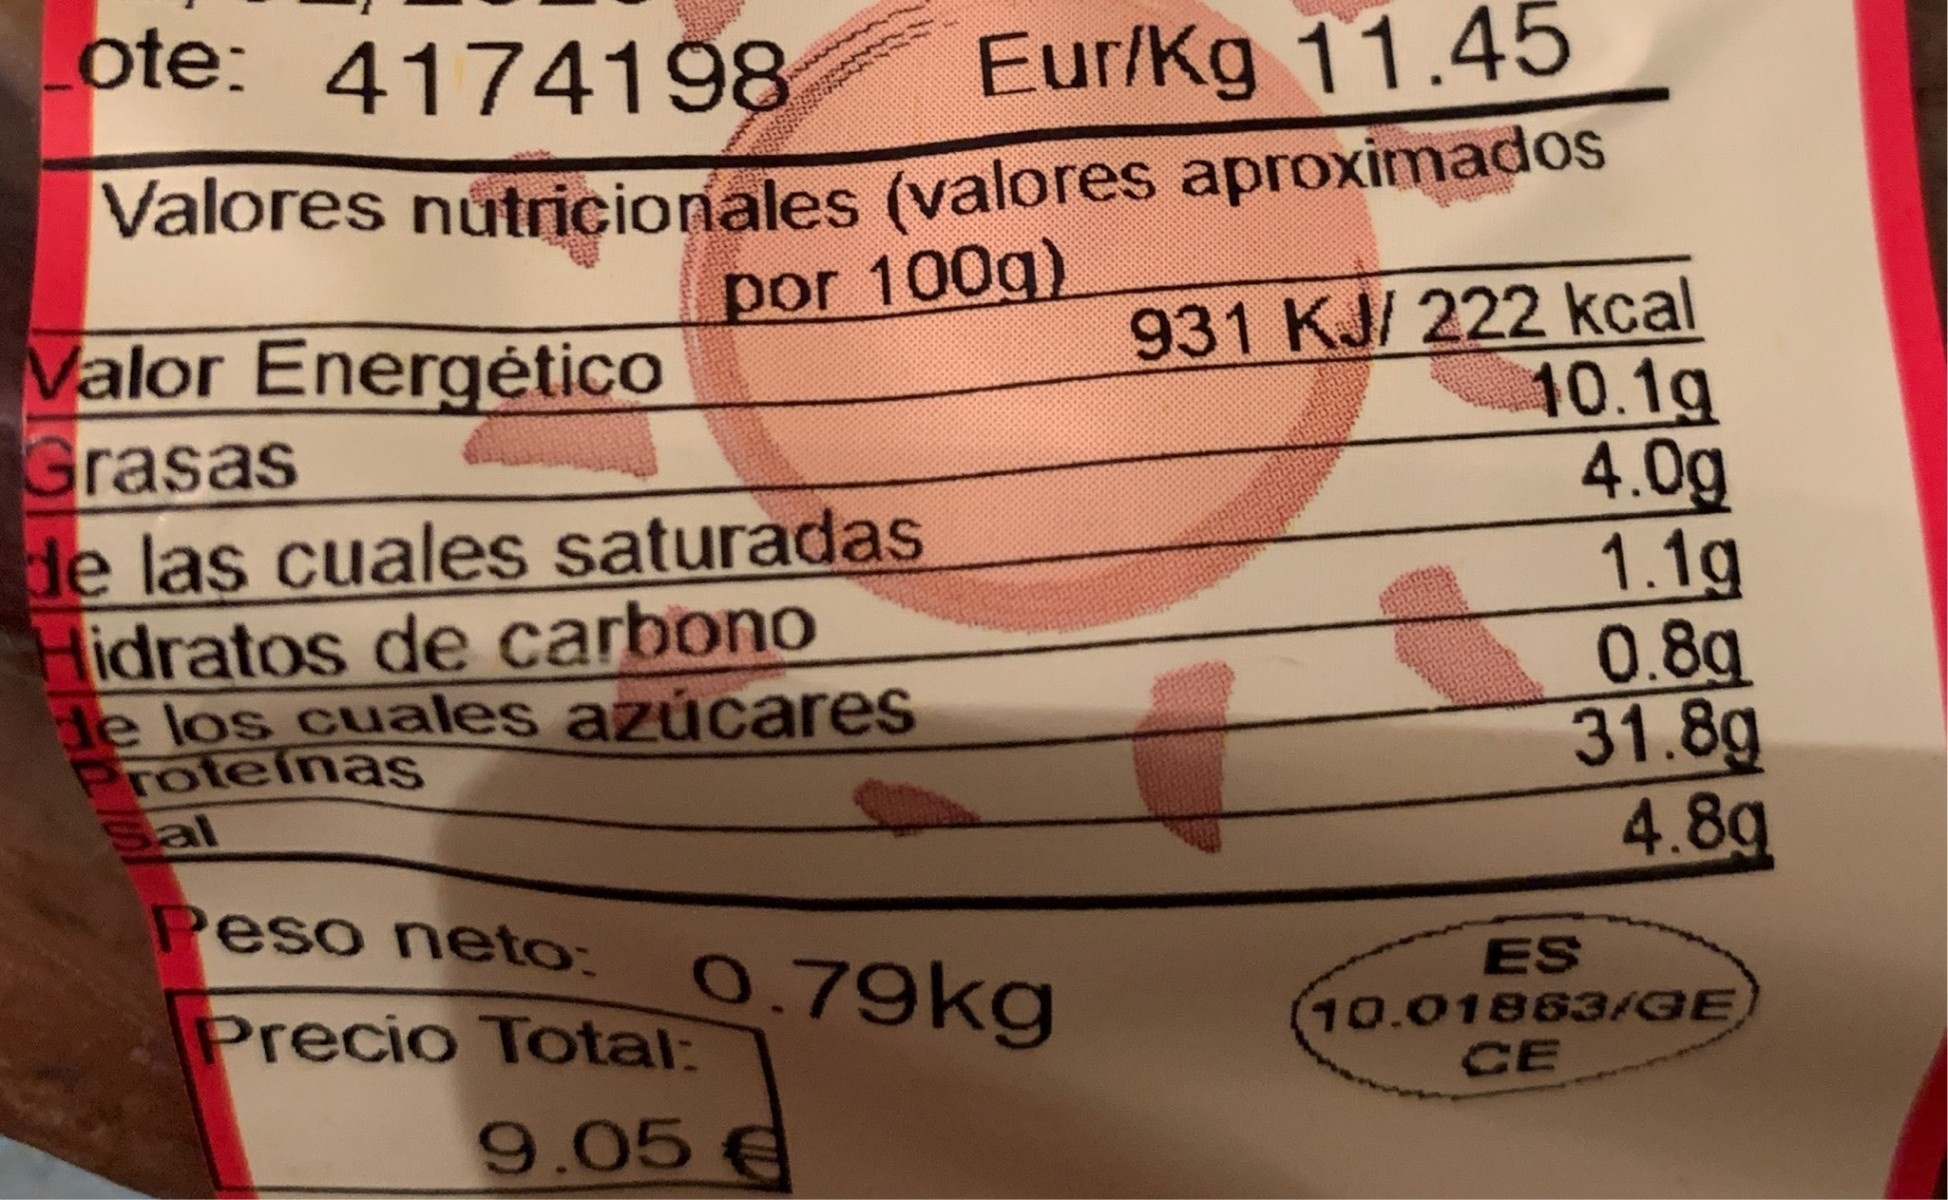column: (26, 331, 923, 860), (1130, 287, 1769, 866)
table: (19, 100, 1782, 894)
